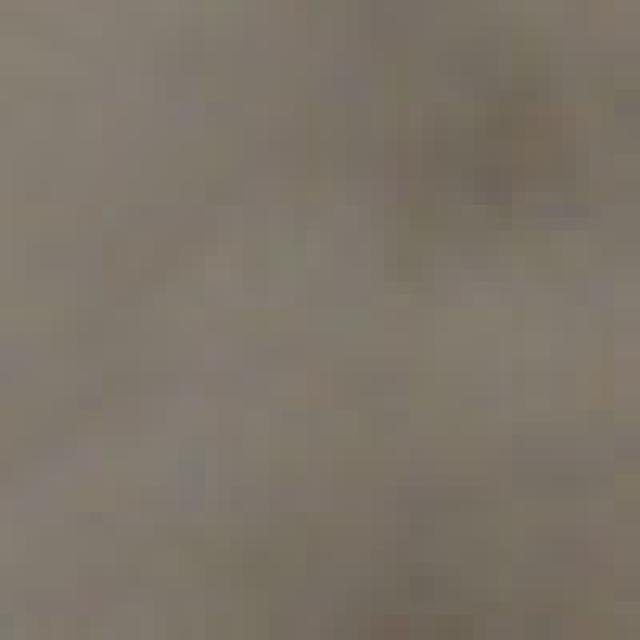fire: (14, 74, 640, 544)
